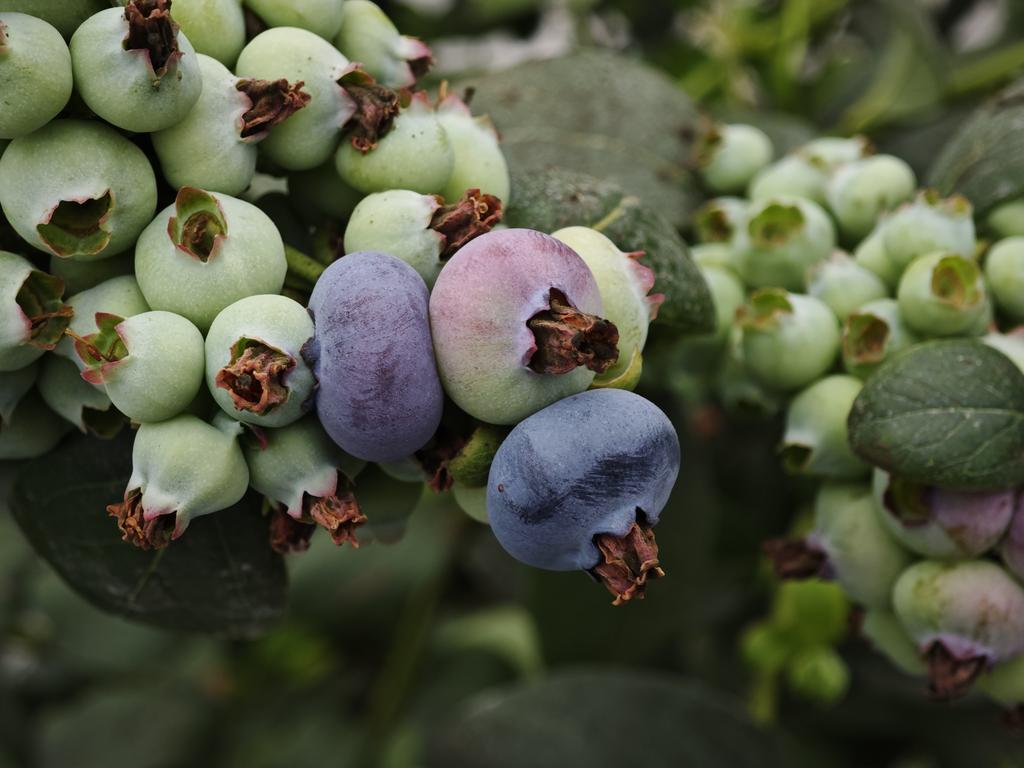RipeBlueBerry: (483, 385, 683, 578), (303, 249, 443, 467)
Semi-RipeBlueBerry: (428, 224, 607, 421)
UnripeBlueBerry: (132, 183, 291, 319)
